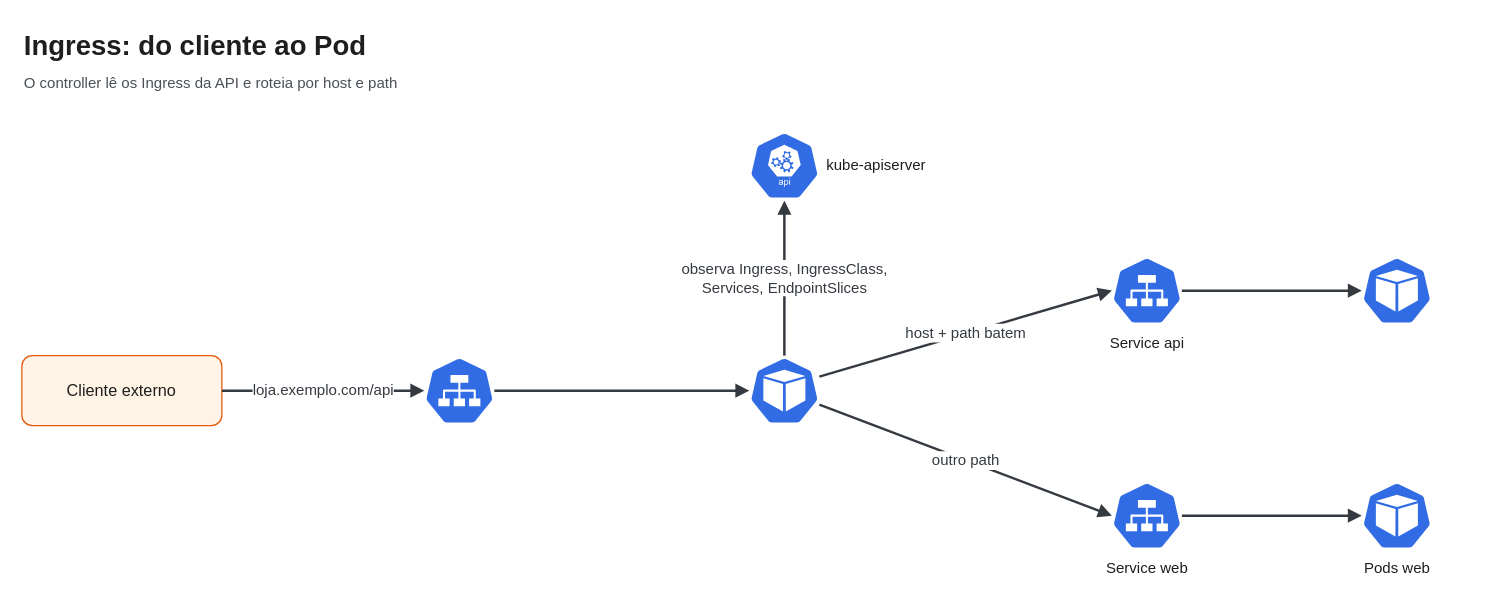
The diagram is 1494 pixels wide and 598 high, and some of its shapes have lost their labels. The shapes that lost their labels are listed below. From the top down, each one's box as (x1, y1, x2, y2) in pixels, then its label:
(1361, 254, 1432, 326): Pods api
(423, 354, 494, 426): LoadBalancer ou NodePort do controller
(748, 354, 819, 426): Pods do Ingress controller proxy reverso
